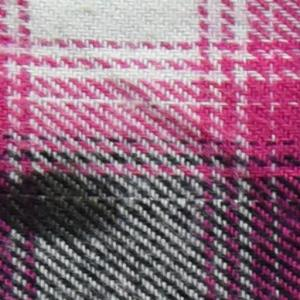Stain: (1, 168, 130, 247)
